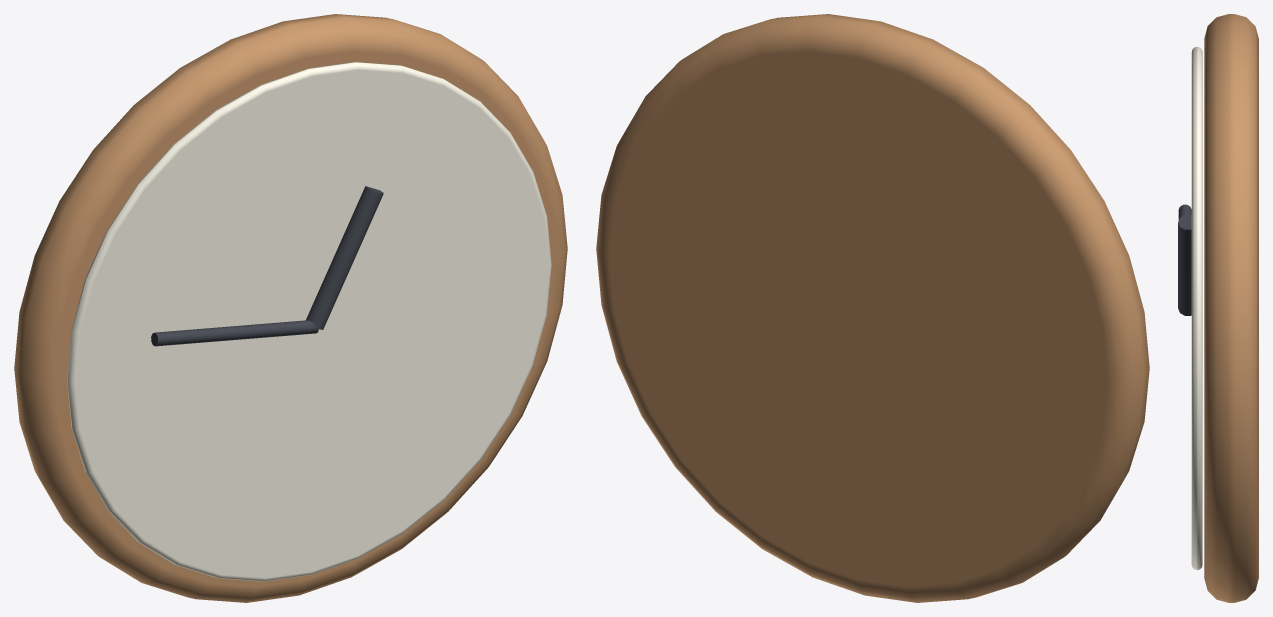
Rendered from officeClockAni.glb.
3 views of the same model, side by side, from view 1: azimuth 30°, elevation 25°; view 2: azimuth 150°, elevation 25°; view 3: azimuth 270°, elevation 25° (orthographic). The views are drawn at different scales.
Visible parts, largest first — view 1: Clock face, Clock body, Hour hand, Minute hand; view 2: Clock body; view 3: Clock body, Clock face, Hour hand, Minute hand.
Boxes of the visible parts, x1,y1,x2,y2 form: Clock face: [67, 62, 551, 581]; Clock body: [14, 14, 567, 602]; Hour hand: [306, 186, 383, 329]; Minute hand: [151, 320, 318, 346]; Clock body: [596, 14, 1149, 602]; Clock body: [1204, 14, 1258, 602]; Clock face: [1191, 46, 1202, 570]; Hour hand: [1178, 215, 1191, 315]; Minute hand: [1178, 204, 1191, 220].
Size of the model in its own units: 1.08 by 1.08 by 0.148.
